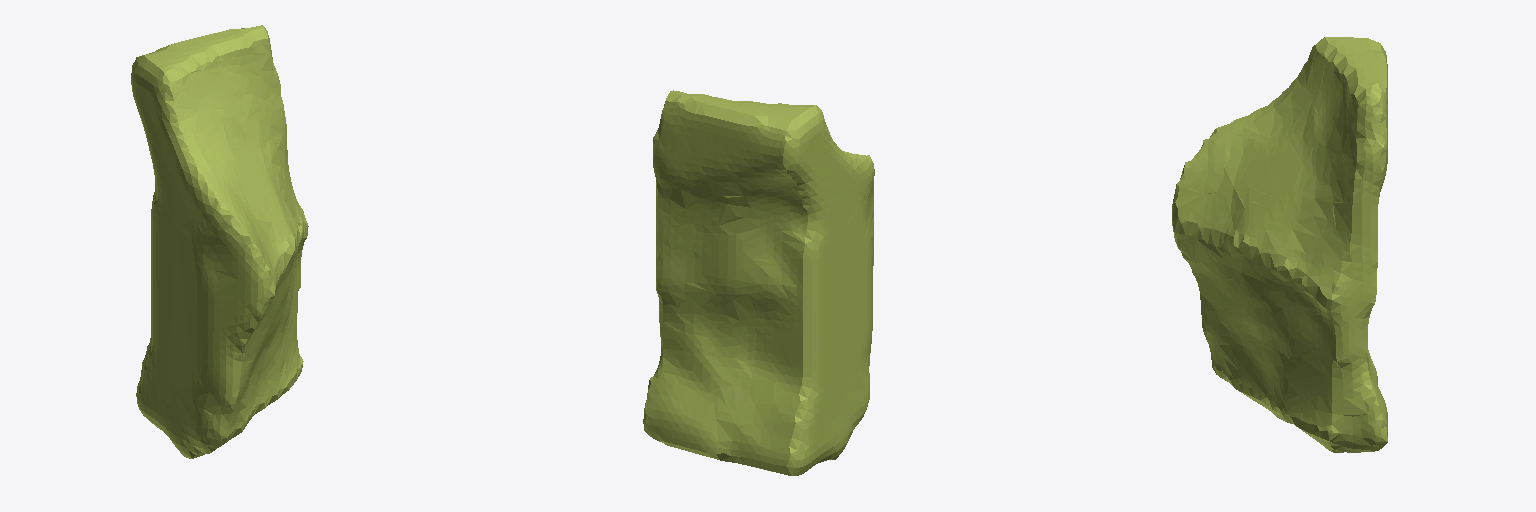
Rendered from Model_65_RH__Area_31_of_cortex_(A31).obj.
The picture shows the model from 3 angles: view 1: azimuth 30°, elevation 25°; view 2: azimuth 150°, elevation 25°; view 3: azimuth 270°, elevation 25°; orthographic projection.
Bounding box in the file's own units: 1.81 × 4.11 × 2.17.